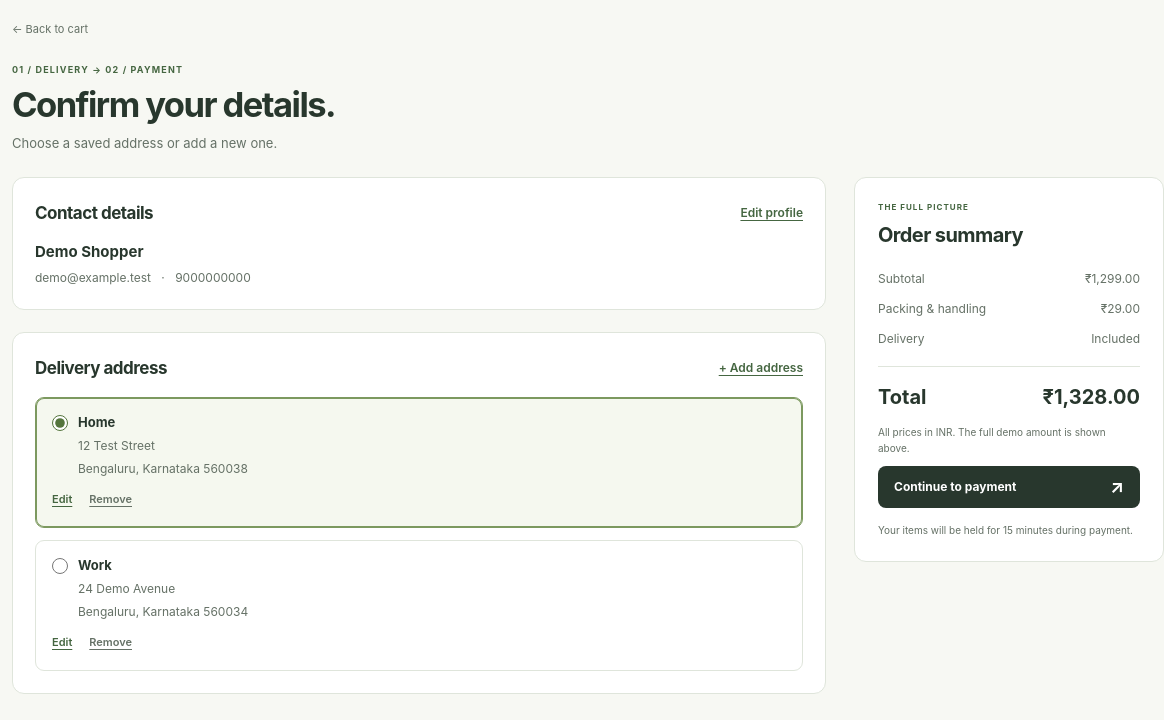
Test: refreshes cart state when checkout reports an existing order
The width and height of the screenshot is (1164, 720).
Expected: the text "Demo Shopper" is shown, top-left (35, 242), bottom-right (144, 261)
Click the button "Continue to payment ↗" at (1009, 487), box top-left (878, 466), bottom-right (1140, 508)
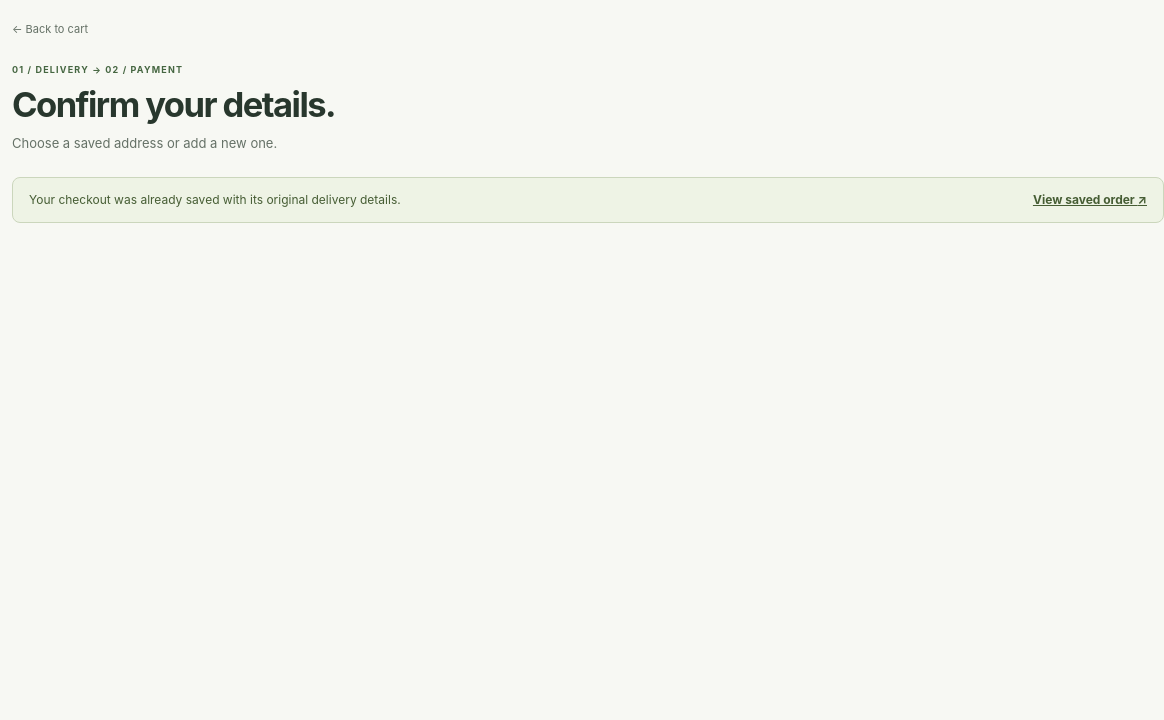
Result: the button "Continue to payment" is gone
